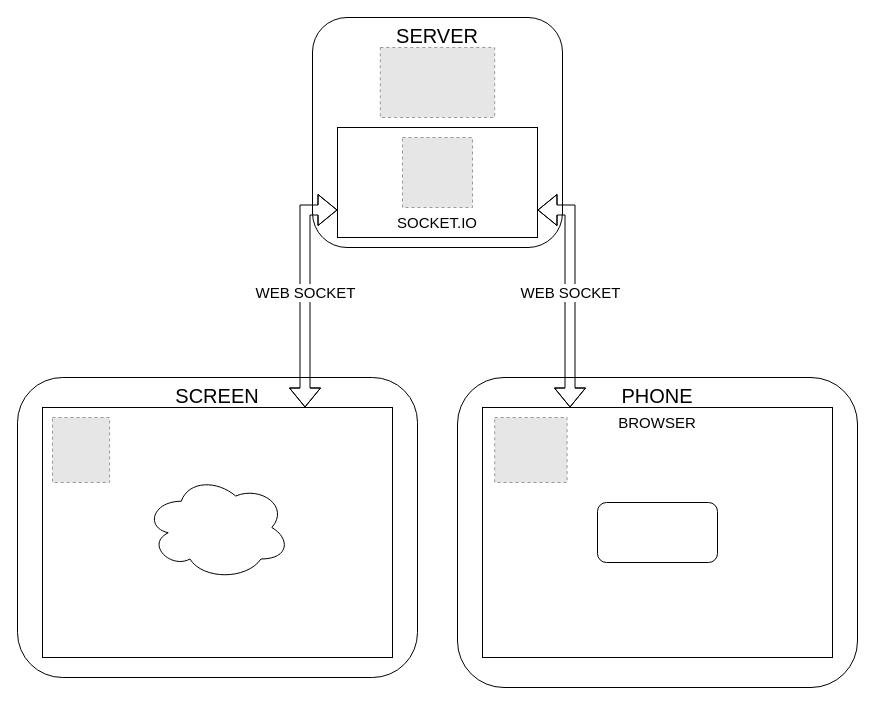
Image size: 875x705. Some labels were removed from this diagram. Grey dashed boxes stand in for pictures. The centre of each missing label's shape, as x and y in pixels:
"GAME" belongs at pixel 217 527.
"PUSH" belongs at pixel 657 532.
